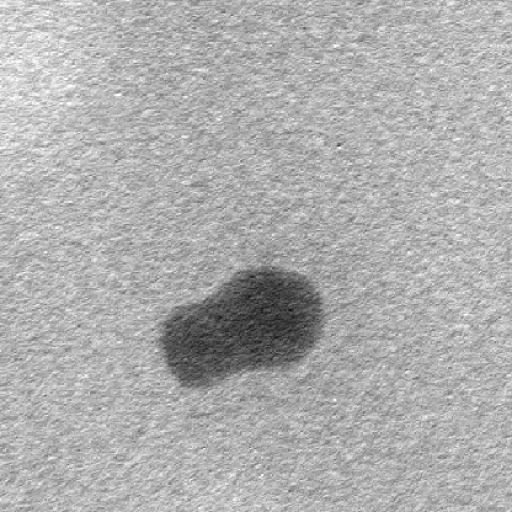Nanoparticles: (157, 264, 327, 388)
